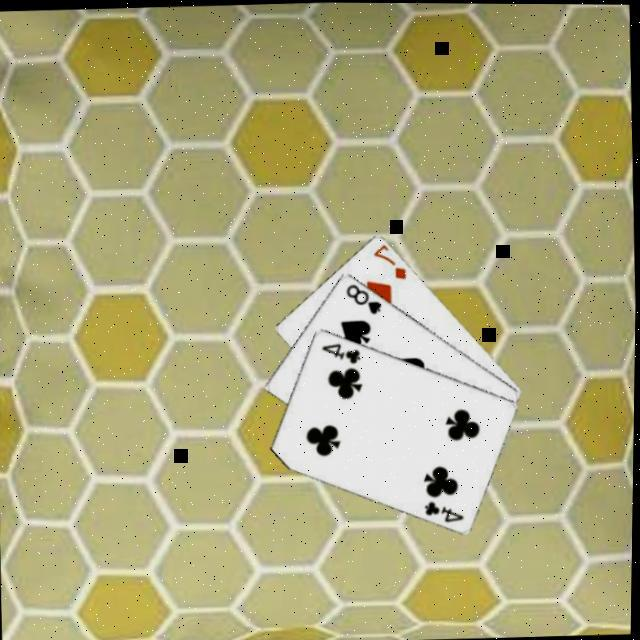4C: (420, 496, 467, 526), (317, 339, 363, 369)
7D: (369, 242, 409, 284)
8S: (342, 281, 384, 318)
